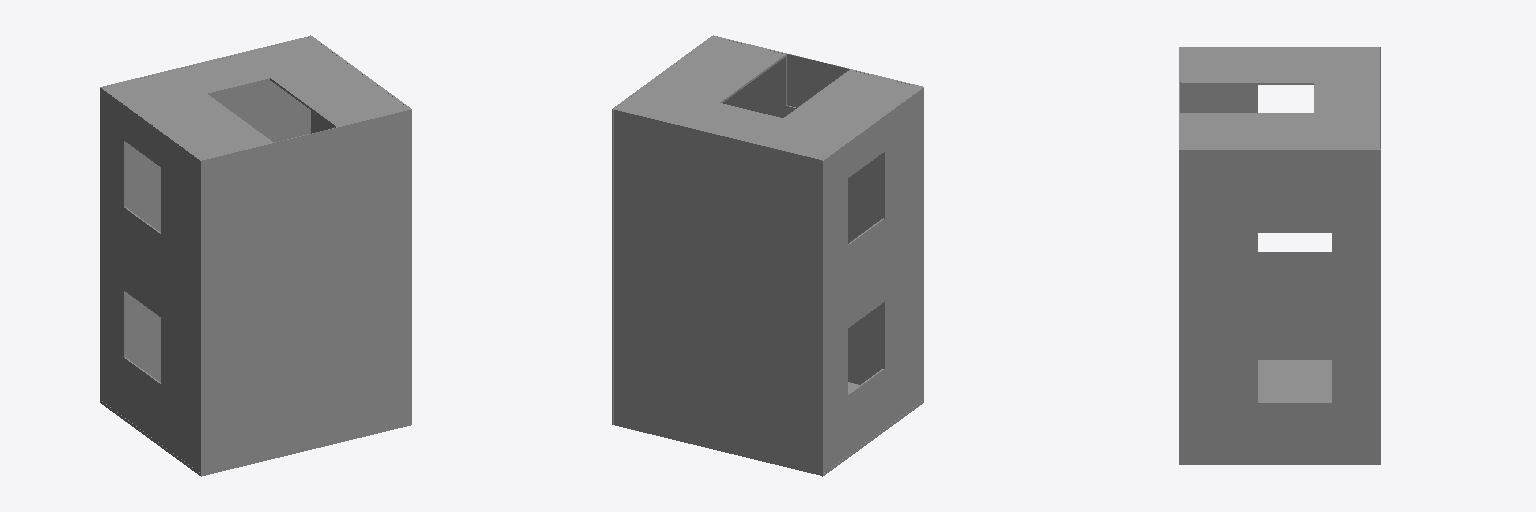
File: celeirov2.obj
3 views of the same model, side by side, from view 1: azimuth 30°, elevation 25°; view 2: azimuth 150°, elevation 25°; view 3: azimuth 270°, elevation 25° (orthographic).
Visible parts, largest first — view 1: Cube.005; view 2: Cube.005; view 3: Cube.005.
Part boxes in pixels (x1,y1,x2,y2): Cube.005: (100,35,411,476); Cube.005: (612,35,923,476); Cube.005: (1179,47,1380,464).
Bounding box in the file's own units: 5.51 × 7.85 × 4.55.